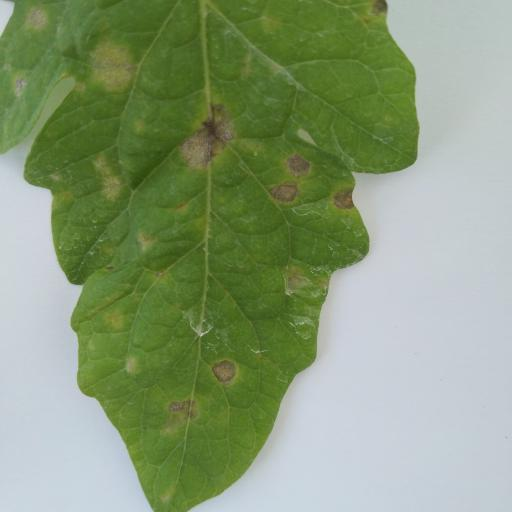disease_tomato: (0, 0, 422, 512)
